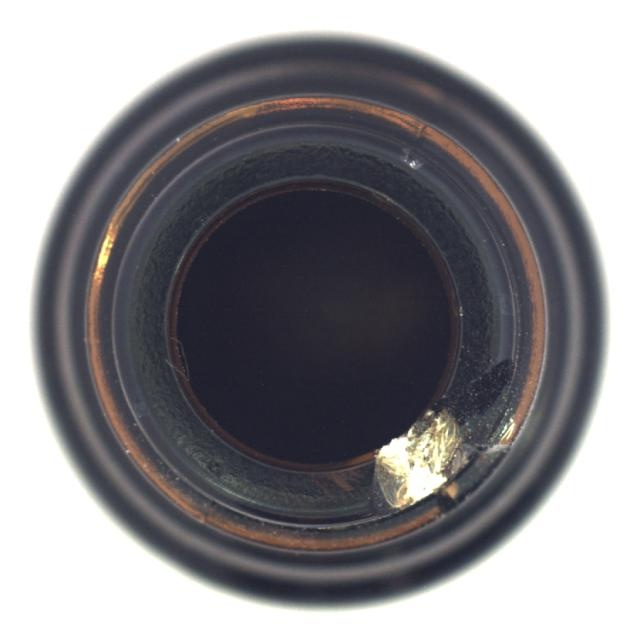bad-broken_small: (28, 29, 608, 611)
